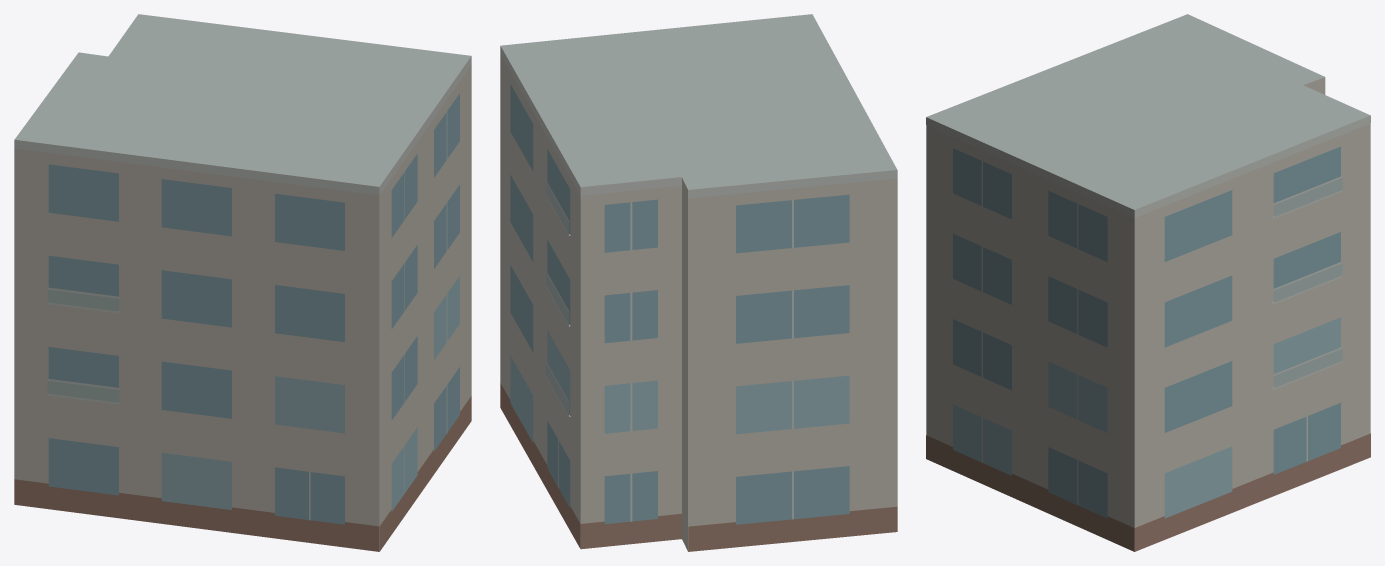
The model's file is survey-upis-33045963.glb.
3 views of the same model, side by side, from view 1: azimuth 30°, elevation 25°; view 2: azimuth 150°, elevation 25°; view 3: azimuth 270°, elevation 25° (orthographic). The views are drawn at different scales.
Visible parts, largest first — view 1: survey-upis-33045963.tmp; view 2: survey-upis-33045963.tmp; view 3: survey-upis-33045963.tmp.
Part boxes in pixels (x1,y1,x2,y2): survey-upis-33045963.tmp: (14,14,471,551); survey-upis-33045963.tmp: (500,14,897,551); survey-upis-33045963.tmp: (926,14,1370,551).
Size of the model in its own units: 12.8 by 10.4 by 12.27.
